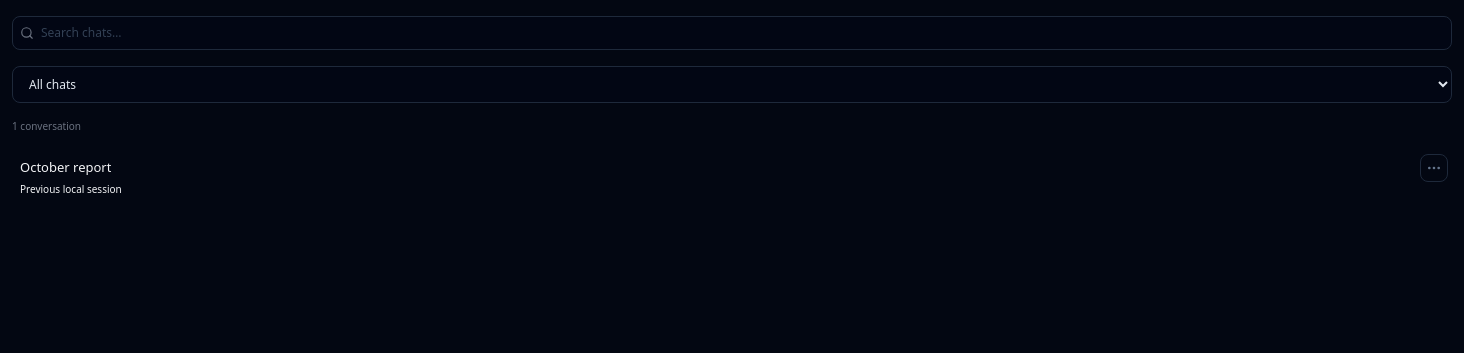
Test case: conversation library controls › guards repeated submissions and keeps a failed rename available to retry
Click the button named "Options for October report": (1434, 168) [1420,154,1448,182]
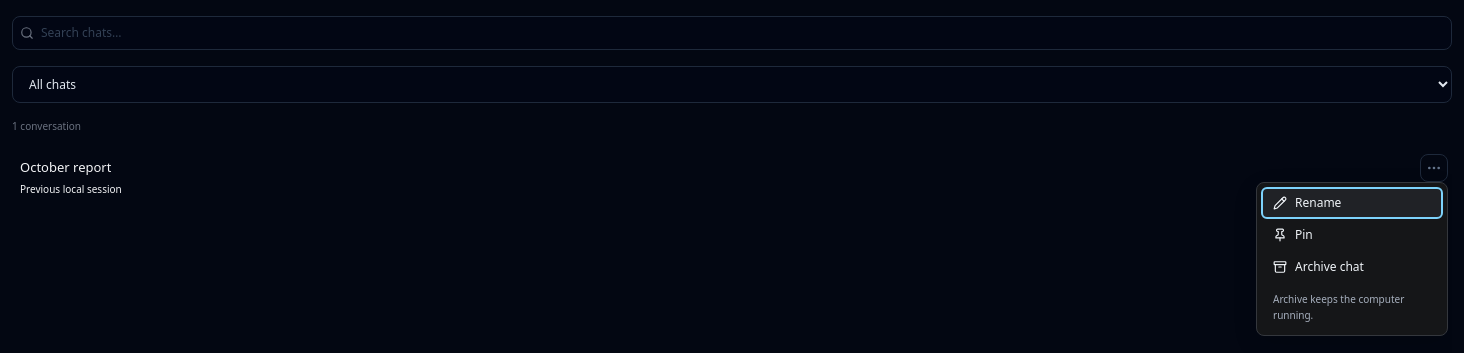
Click the menu item "Rename": (1352, 203) [1261,187,1443,219]
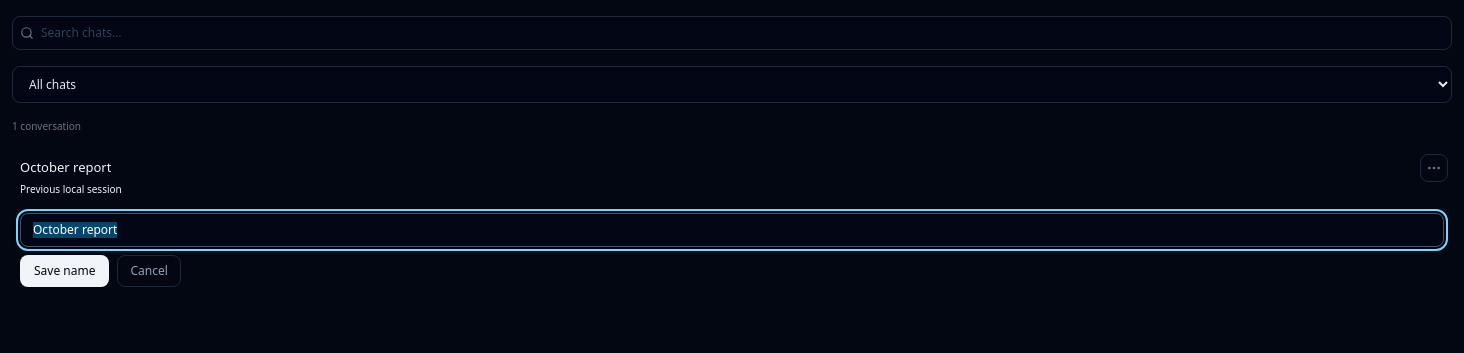
Submit the form named "Rename October report", box [12,204,1452,294]
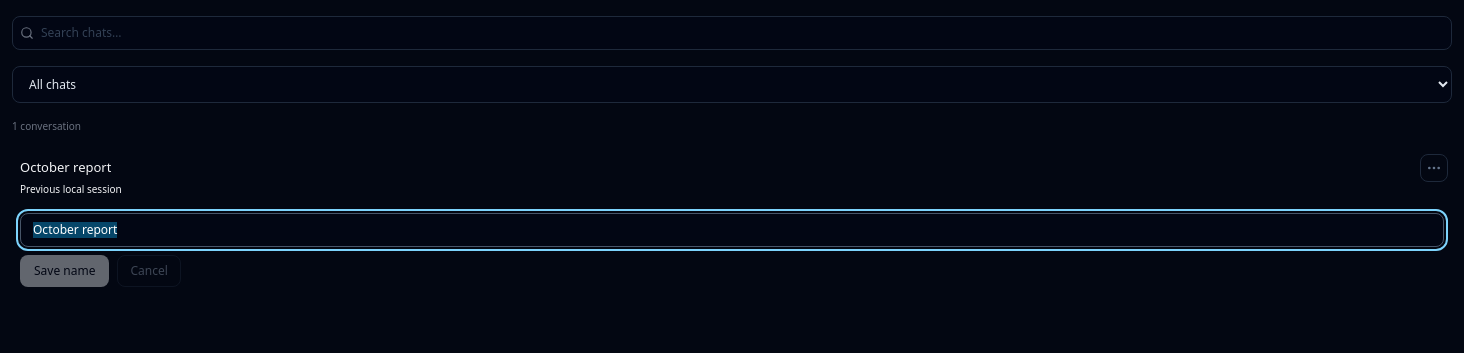
Submit the form named "Rename October report", box [12,204,1452,294]
Expected: the button "Save name" is disabled, [20,254,110,286]
Press Escape in the field named "Conversation name", box [20,212,1444,246]
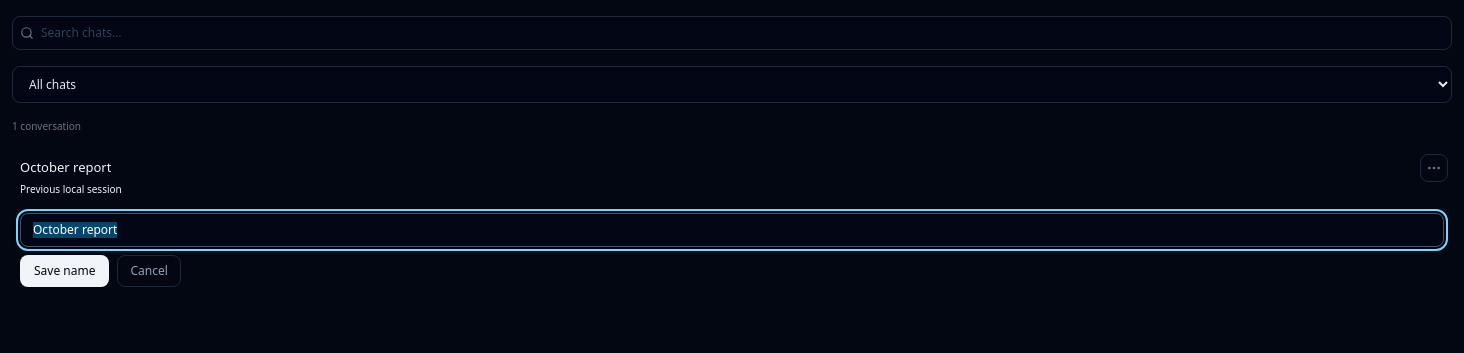
Expected: the form named "Rename October report" is shown, [12,204,1452,294]
Expected: the field named "Conversation name" is shown, [20,212,1444,246]
Expected: the button "Save name" is enabled, [20,254,110,286]
